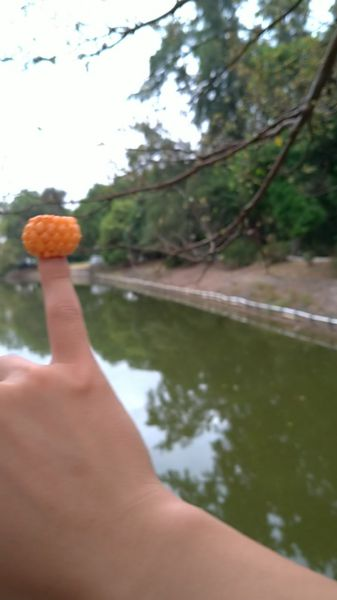eggs: (21, 214, 84, 259)
